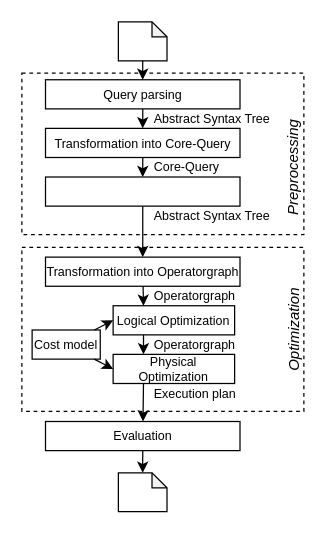
Some shapes in this 326 by 544 pixel diagram are drawn without their labels. Here are the shapes that lost their labels. From the top down, the centre of each, then its label:
At pixel 142 41: "Query".
At pixel 142 191: "Core-Query parsing".
At pixel 142 492: "Result".
